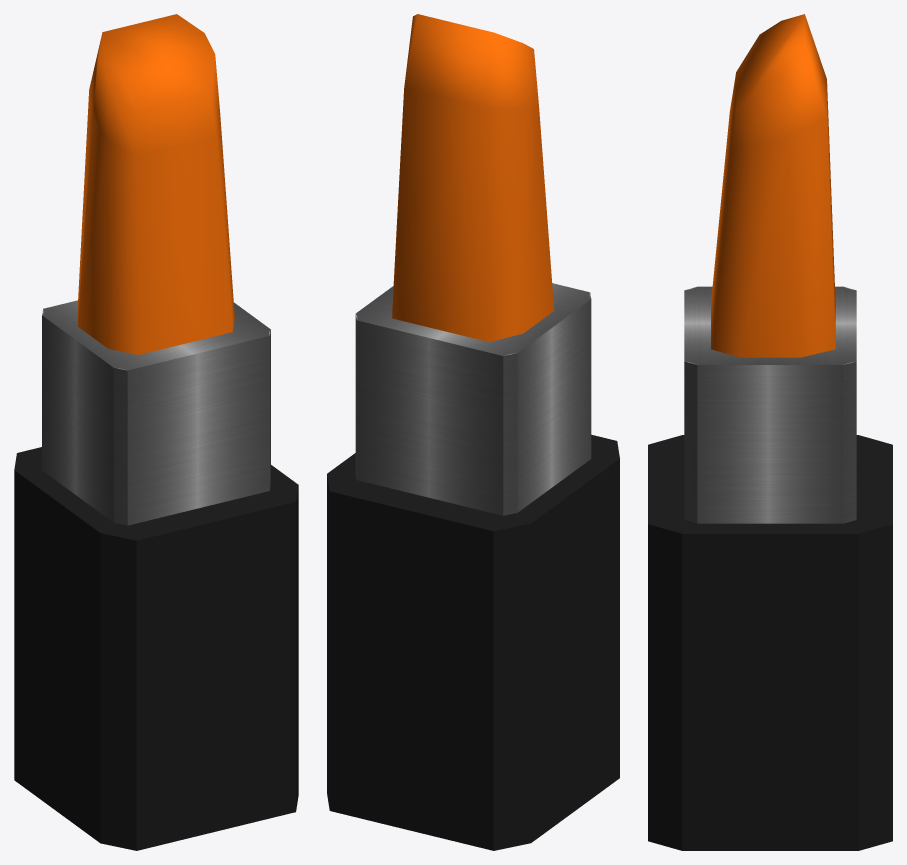
Rendered from Lipstick_B.FBX.
The picture shows the model from 3 angles, left to right: view 1: azimuth 30°, elevation 25°; view 2: azimuth 150°, elevation 25°; view 3: azimuth 270°, elevation 25°; orthographic projection. The views are drawn at different scales.
Parts seen in each view (by area): view 1: Lipstick; view 2: Lipstick; view 3: Lipstick.
Boxes of the visible parts, x1,y1,x2,y2 form: Lipstick: (14, 14, 298, 850); Lipstick: (327, 14, 619, 850); Lipstick: (648, 14, 892, 850).
Bounding box in the file's own units: 13.37 × 48.5 × 14.
